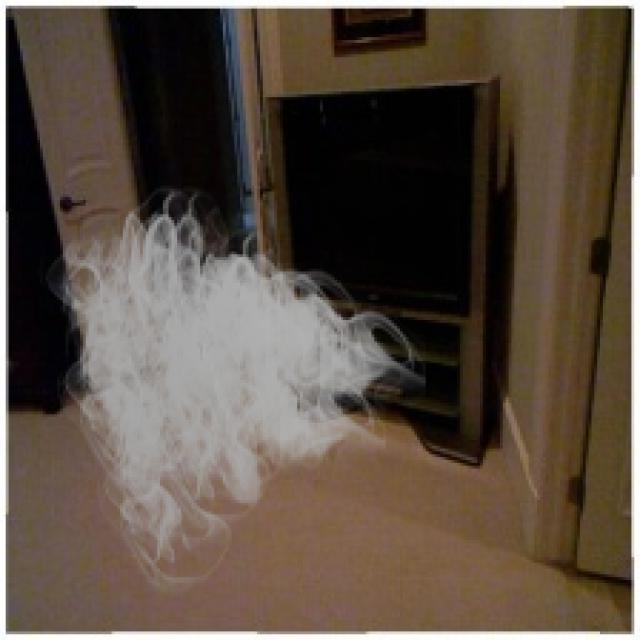smoke: (37, 174, 426, 600)
